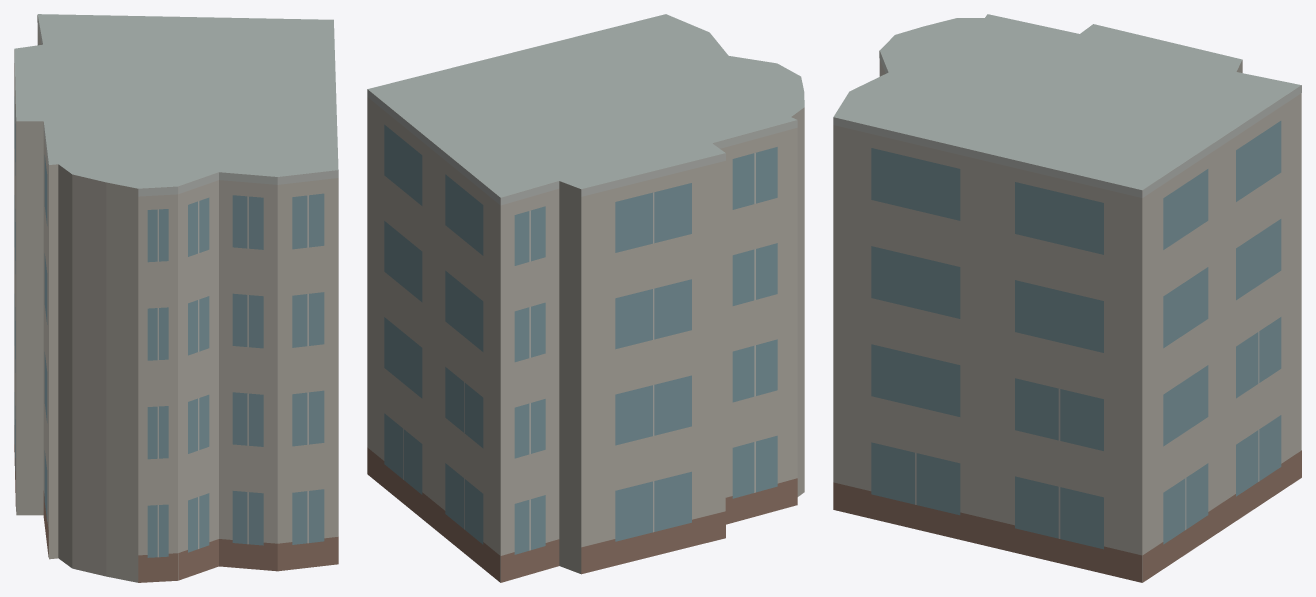
The model's file is survey-upis-32632923.glb.
The picture shows the model from 3 angles, left to right: view 1: azimuth 30°, elevation 25°; view 2: azimuth 150°, elevation 25°; view 3: azimuth 270°, elevation 25°; orthographic projection. The views are drawn at different scales.
Visible parts, largest first — view 1: survey-upis-32632923.tmp; view 2: survey-upis-32632923.tmp; view 3: survey-upis-32632923.tmp.
Part boxes in pixels (left/top/right/bottom): survey-upis-32632923.tmp: left=14, top=14, right=338, bottom=582; survey-upis-32632923.tmp: left=367, top=14, right=804, bottom=582; survey-upis-32632923.tmp: left=833, top=14, right=1301, bottom=582.
Size of the model in its own units: 11.76 by 12.2 by 13.2.
